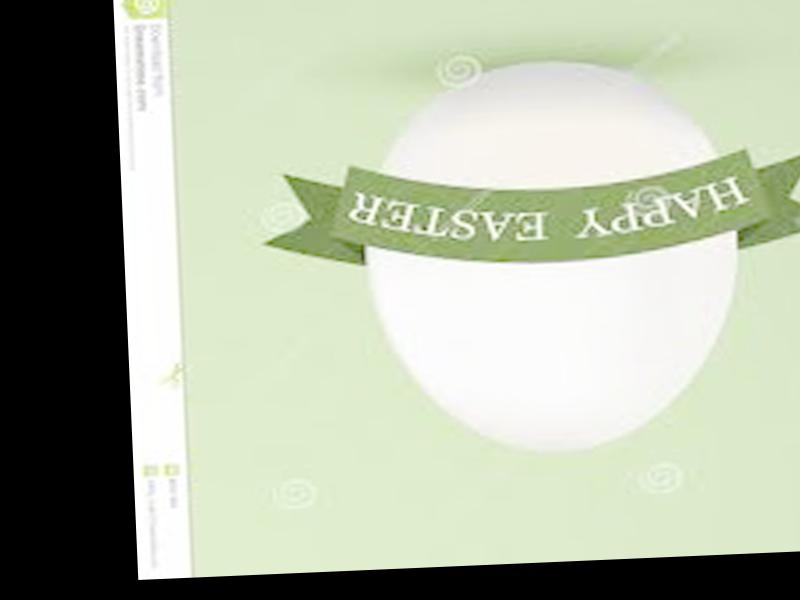Eggs: (356, 55, 741, 458)
